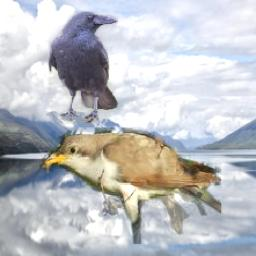Crow: (49, 11, 118, 124)
Cuckoo: (41, 129, 222, 245)
